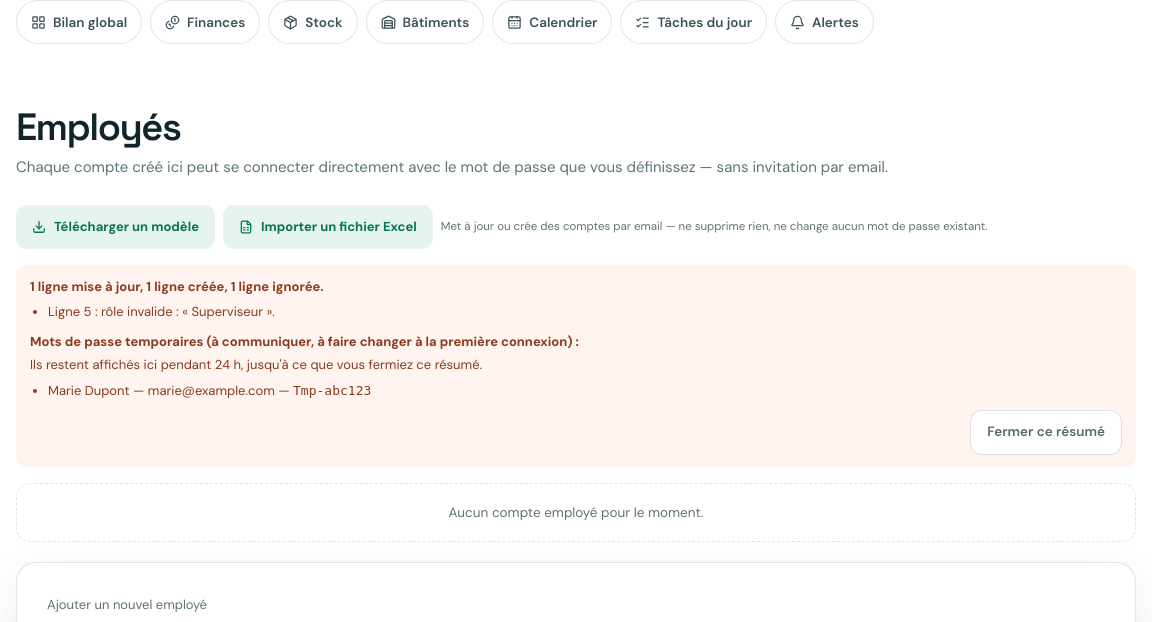
Test: EmployeesPage — Excel import › coming back to the page resumes the job, and closing the summary forgets it
Expected: the text "Tmp-abc123" is shown, [293,383,371,398]
Click the button "Fermer ce résumé": (1046, 433) [970,410,1122,455]
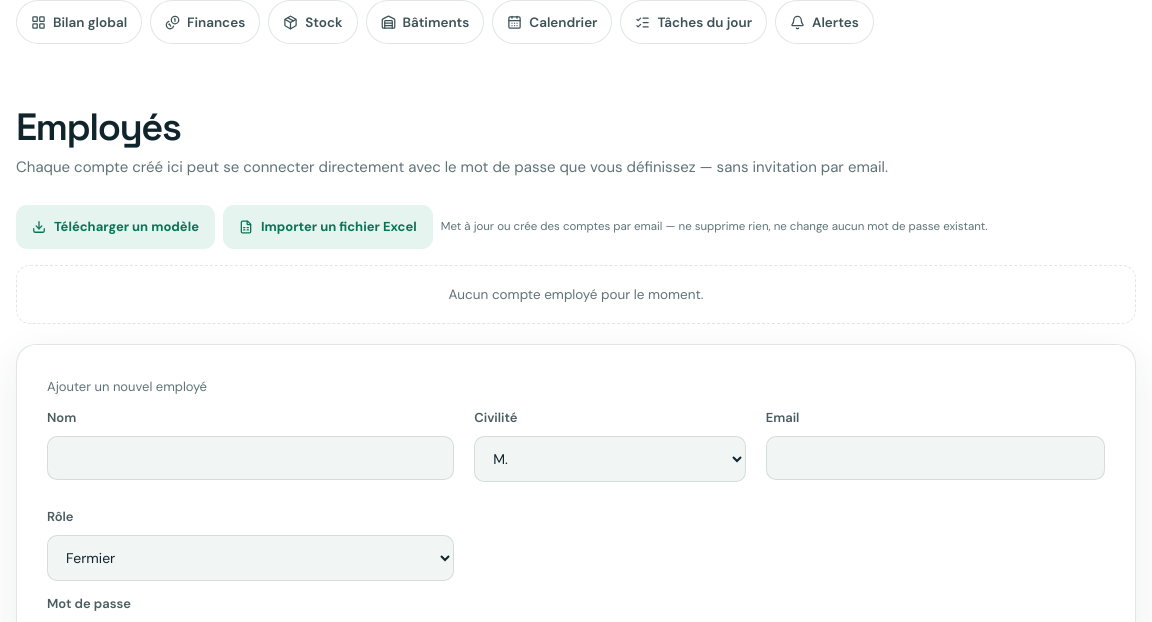
Now the text "Tmp-abc123" is gone
